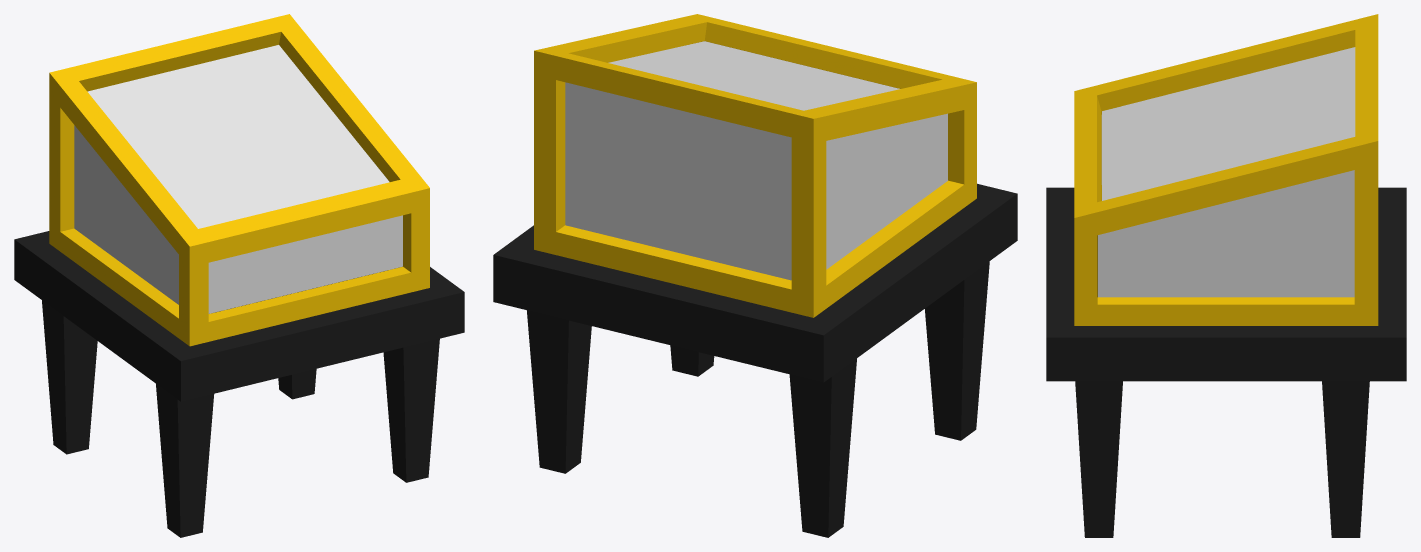
The model's file is Meta_Game_Tattoo_Jewel_Upgrade_Station.fbx.
3 renders of one model, left to right at view 1: azimuth 30°, elevation 25°; view 2: azimuth 150°, elevation 25°; view 3: azimuth 270°, elevation 25°, orthographic. The views are drawn at different scales.
Visible parts, largest first — view 1: Jewel Vitrine, Jewel Vitrine Glass; view 2: Jewel Vitrine, Jewel Vitrine Glass; view 3: Jewel Vitrine, Jewel Vitrine Glass.
Boxes of the visible parts, x1,y1,x2,y2 form: Jewel Vitrine: (14, 14, 464, 537); Jewel Vitrine Glass: (74, 45, 402, 313); Jewel Vitrine: (493, 14, 1017, 537); Jewel Vitrine Glass: (565, 41, 947, 280); Jewel Vitrine: (1046, 14, 1406, 537); Jewel Vitrine Glass: (1098, 47, 1355, 297).
Bounding box in the file's own units: 107 × 131 × 109.
